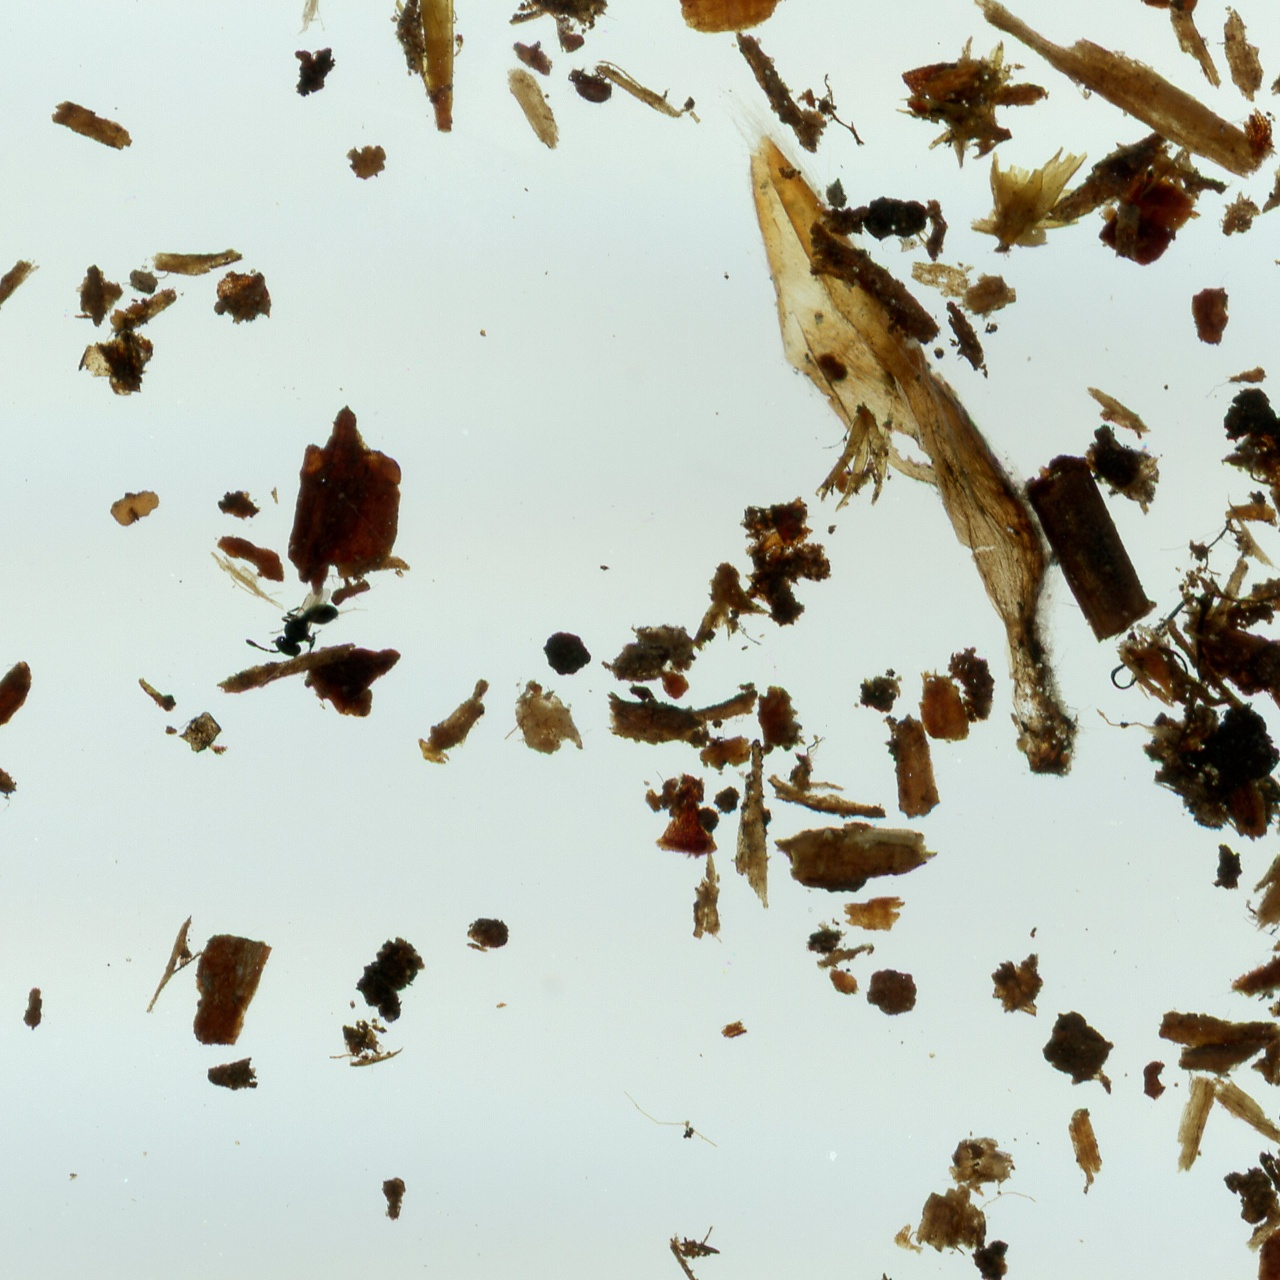arthropod: (240, 580, 343, 662), (559, 57, 624, 113)
